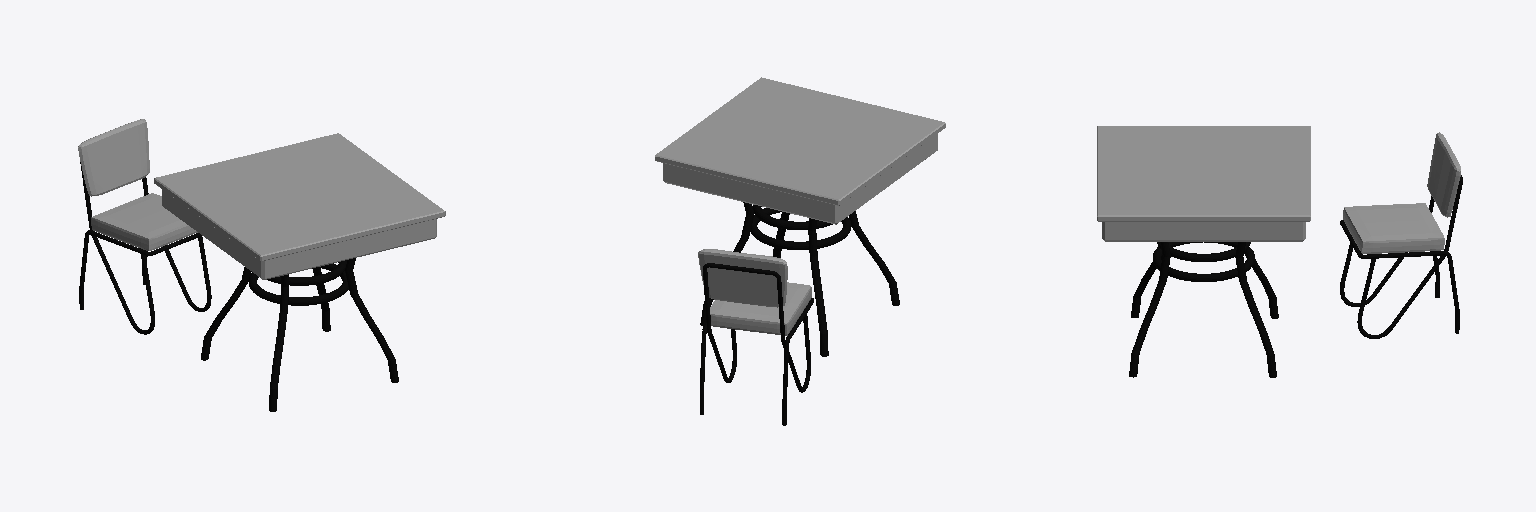
Rendered from armchair_and_table2.obj.
3 renders of one model, left to right at view 1: azimuth 30°, elevation 25°; view 2: azimuth 150°, elevation 25°; view 3: azimuth 270°, elevation 25°, orthographic.
Parts seen in each view (by area): view 1: taula_rodona.001_Cube.033, potas_taularodona.001_Tube.001, cadiregrogue.002_Cube.004, cadiregrogue.001_Cube.002, cadiregroge_pot_Cube.003; view 2: taula_rodona.001_Cube.033, potas_taularodona.001_Tube.001, cadiregrogue.002_Cube.004, cadiregroge_pot_Cube.003, cadiregrogue.001_Cube.002; view 3: taula_rodona.001_Cube.033, potas_taularodona.001_Tube.001, cadiregrogue.001_Cube.002, cadiregroge_pot_Cube.003, cadiregrogue.002_Cube.004.
Boxes of the visible parts, <box> form: taula_rodona.001_Cube.033: <box>154,133,445,279</box>; potas_taularodona.001_Tube.001: <box>201,258,398,411</box>; cadiregrogue.002_Cube.004: <box>78,119,149,196</box>; cadiregrogue.001_Cube.002: <box>91,193,197,250</box>; cadiregroge_pot_Cube.003: <box>79,162,211,334</box>; taula_rodona.001_Cube.033: <box>655,77,945,224</box>; potas_taularodona.001_Tube.001: <box>700,202,899,356</box>; cadiregrogue.002_Cube.004: <box>698,249,787,307</box>; cadiregroge_pot_Cube.003: <box>700,263,813,425</box>; cadiregrogue.001_Cube.002: <box>710,282,811,335</box>; taula_rodona.001_Cube.033: <box>1097,126,1310,241</box>; potas_taularodona.001_Tube.001: <box>1129,242,1278,377</box>; cadiregrogue.001_Cube.002: <box>1343,203,1444,253</box>; cadiregroge_pot_Cube.003: <box>1340,175,1462,338</box>; cadiregrogue.002_Cube.004: <box>1427,132,1460,217</box>.
Bounding box in the file's own units: 1.06 × 0.9088 × 1.71.